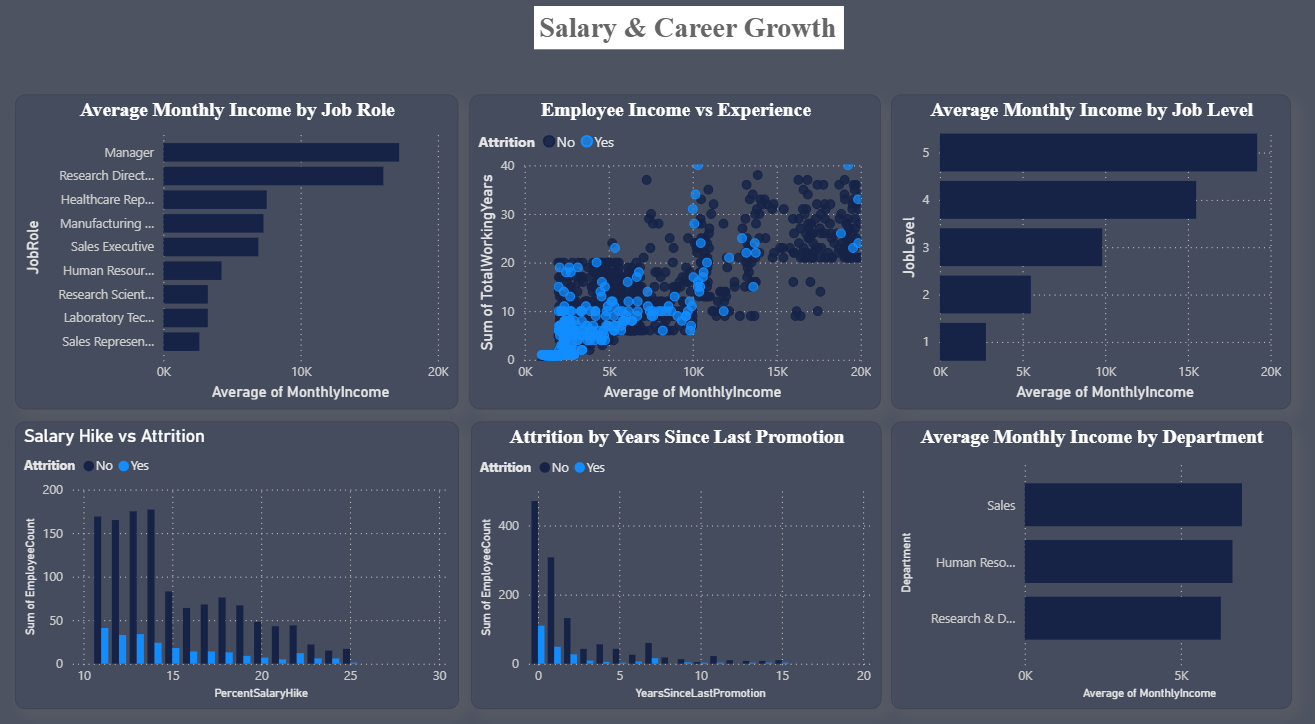

What the dashboard file says about the page in this screenshot:
{"tool":"powerbi","page":{"name":"Salary & Career Growth","canvas":[1280,720],"ordinal":2},"visuals":[{"type":"textbox","box":[521.7,20.7,295.9,41.4],"z":0},{"type":"barChart","title":"Average Monthly Income by Job Role","fields":{"Category":["HR.JobRole"],"Y":["Avg(HR.MonthlyIncome)"]},"box":[25.4,105,423.1,300.6],"z":1000},{"type":"clusteredColumnChart","title":"Salary Hike vs Attrition","fields":{"Y":["Sum(HR.EmployeeCount)"],"Category":["HR.PercentSalaryHike"],"Series":["HR.Attrition"]},"box":[25.4,417.5,423.8,274.6],"z":2000},{"type":"scatterChart","title":"Employee Income vs Experience","fields":{"X":["Avg(HR.MonthlyIncome)"],"Y":["Sum(HR.TotalWorkingYears)"],"Series":["HR.Attrition"],"Category":["HR.EmployeeNumber"]},"box":[459.7,105,392.9,300.6],"z":3000},{"type":"clusteredColumnChart","title":"Attrition by Years Since Last Promotion","fields":{"Category":["HR.YearsSinceLastPromotion"],"Y":["Sum(HR.EmployeeCount)"],"Series":["HR.Attrition"]},"box":[461.9,417.5,392.1,274.6],"z":4000},{"type":"barChart","title":"Average Monthly Income by Job Level","fields":{"Y":["Avg(HR.MonthlyIncome)"],"Category":["HR.JobLevel"]},"box":[862.1,105,381.7,300.6],"z":5000},{"type":"barChart","title":"Average Monthly Income by Department","fields":{"Y":["Avg(HR.MonthlyIncome)"],"Category":["HR.Department"]},"box":[861.9,417.5,382.5,274.6],"z":6000}]}

Visuals, with their boxes in screenshot pixels (x1, y1, x2, y2), scaled from the page's 1280x720 canvas onto the 1315x724 screenshot:
textbox: left=536, top=21, right=840, bottom=62
"Average Monthly Income by Job Role" barChart: left=26, top=106, right=461, bottom=408
"Salary Hike vs Attrition" clusteredColumnChart: left=26, top=420, right=461, bottom=696
"Employee Income vs Experience" scatterChart: left=472, top=106, right=876, bottom=408
"Attrition by Years Since Last Promotion" clusteredColumnChart: left=475, top=420, right=877, bottom=696
"Average Monthly Income by Job Level" barChart: left=886, top=106, right=1278, bottom=408
"Average Monthly Income by Department" barChart: left=885, top=420, right=1278, bottom=696
